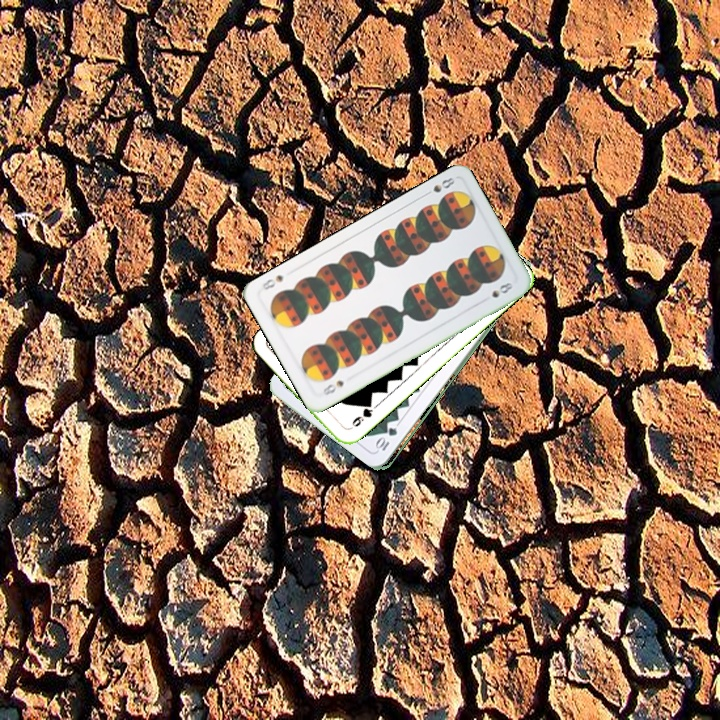G10: (374, 423, 400, 453)
G9: (348, 398, 375, 430)
S8: (419, 173, 457, 199), (319, 376, 346, 398)
